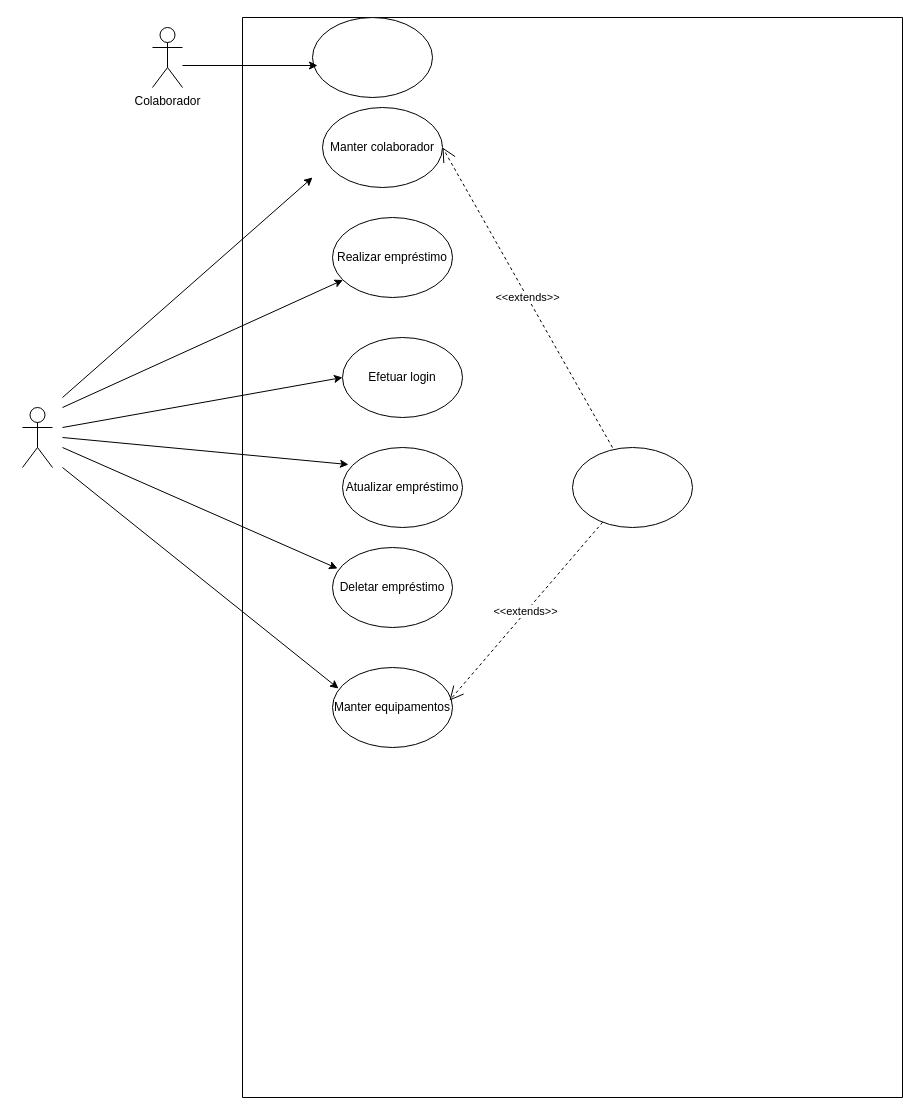
This 920x1115 diagram has some shape labels left out. Here are the shapes that lost their labels. From the top down, the centre of each, then its label:
At [372,57]: "Solicitar empréstimo ao usuário".
At [37,437]: "Usuario".
At [632,487]: "CRUD".
